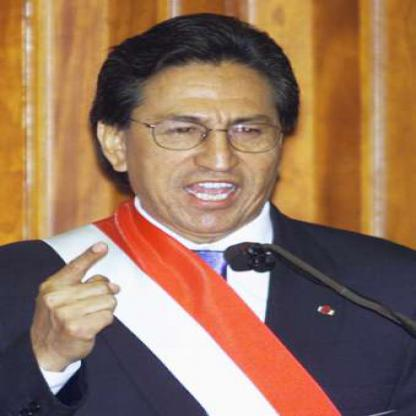face: (125, 34, 287, 238)
